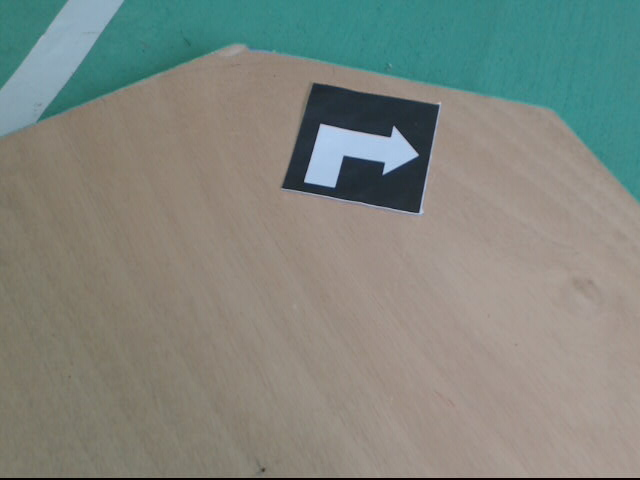right: (281, 82, 441, 217)
